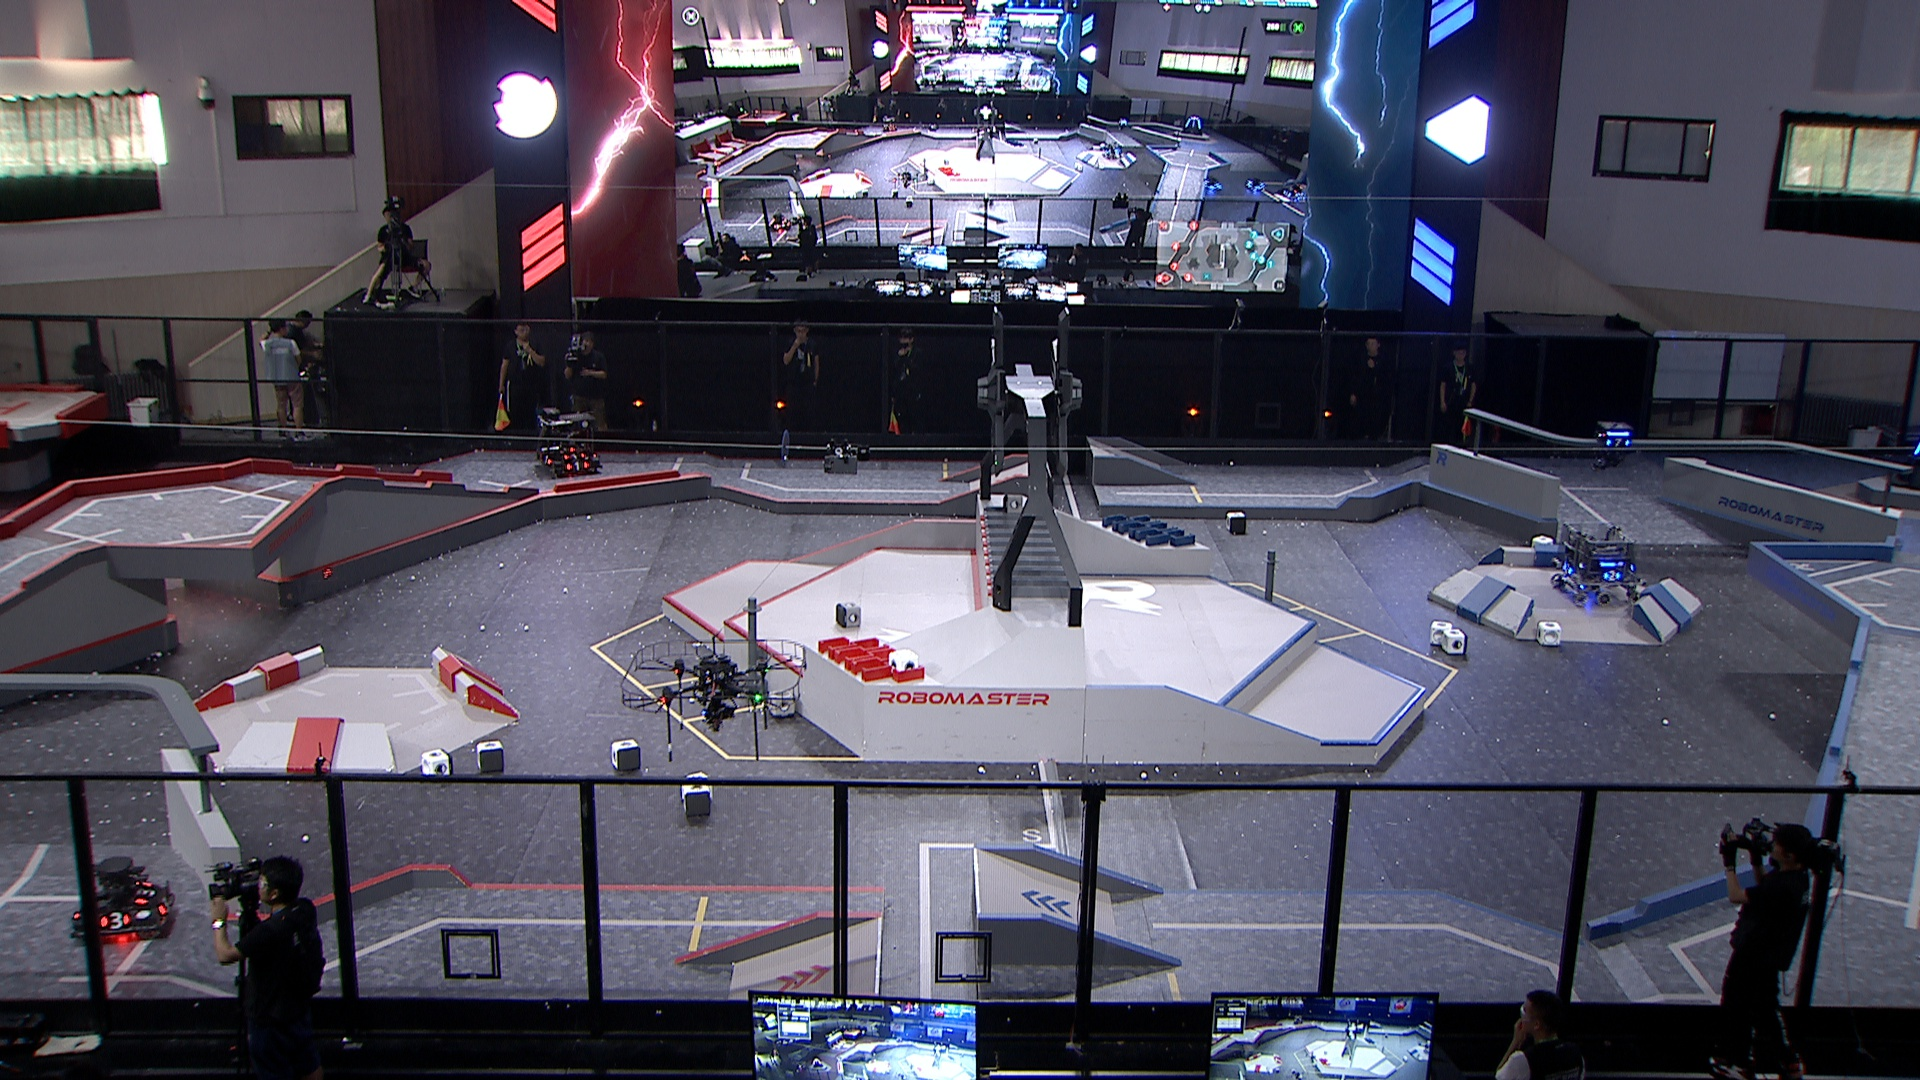armor: (98, 911, 133, 932), (135, 884, 160, 907), (157, 895, 177, 916), (1600, 570, 1623, 584), (566, 462, 591, 473), (1607, 436, 1629, 450), (560, 452, 585, 462), (1561, 562, 1575, 575), (541, 455, 553, 467), (1911, 442, 1920, 456)
base: (1892, 404, 1920, 498)
car: (67, 853, 178, 942), (1548, 520, 1644, 608), (537, 405, 605, 481)
ignore: (1278, 179, 1307, 204), (767, 211, 794, 233), (1182, 115, 1204, 136), (1245, 175, 1267, 193), (882, 113, 899, 133), (1102, 142, 1121, 160), (1205, 175, 1222, 193), (704, 160, 719, 178), (1116, 117, 1129, 133)
watcher: (1592, 419, 1634, 472)
